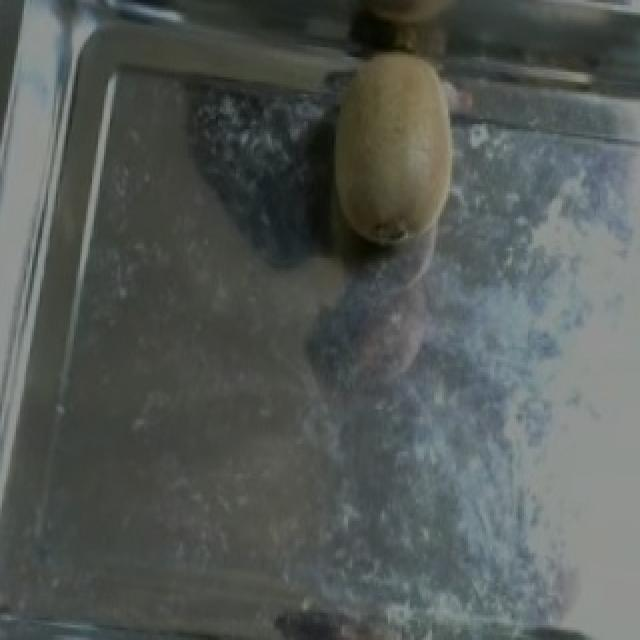Fruit: (298, 35, 474, 263)
